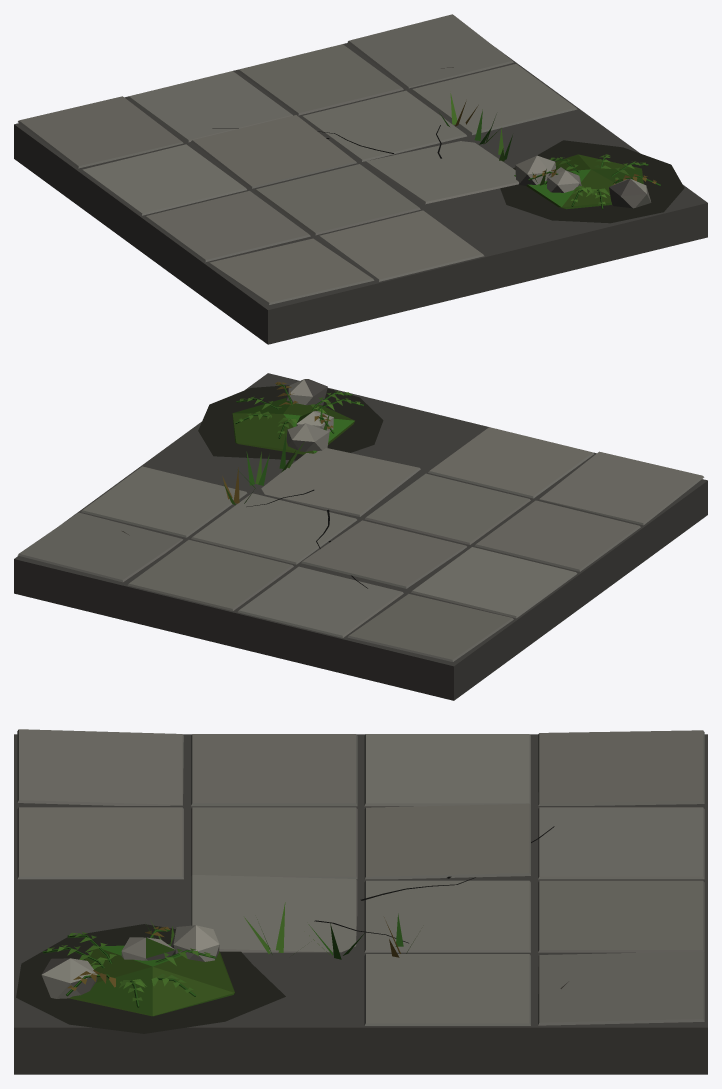
Rendered from kit_floor_cracked.glb.
The picture shows the model from 3 angles, top to bottom: view 1: azimuth 30°, elevation 25°; view 2: azimuth 150°, elevation 25°; view 3: azimuth 270°, elevation 25°; orthographic projection. The views are drawn at different scales.
Visible parts, largest first — view 1: Mesh; view 2: Mesh; view 3: Mesh.
Part boxes in pixels (x1,y1,x2,y2): Mesh: [14, 14, 707, 344]; Mesh: [14, 373, 707, 700]; Mesh: [14, 729, 707, 1074].
Size of the model in its own units: 4.1 by 0.5697 by 4.
